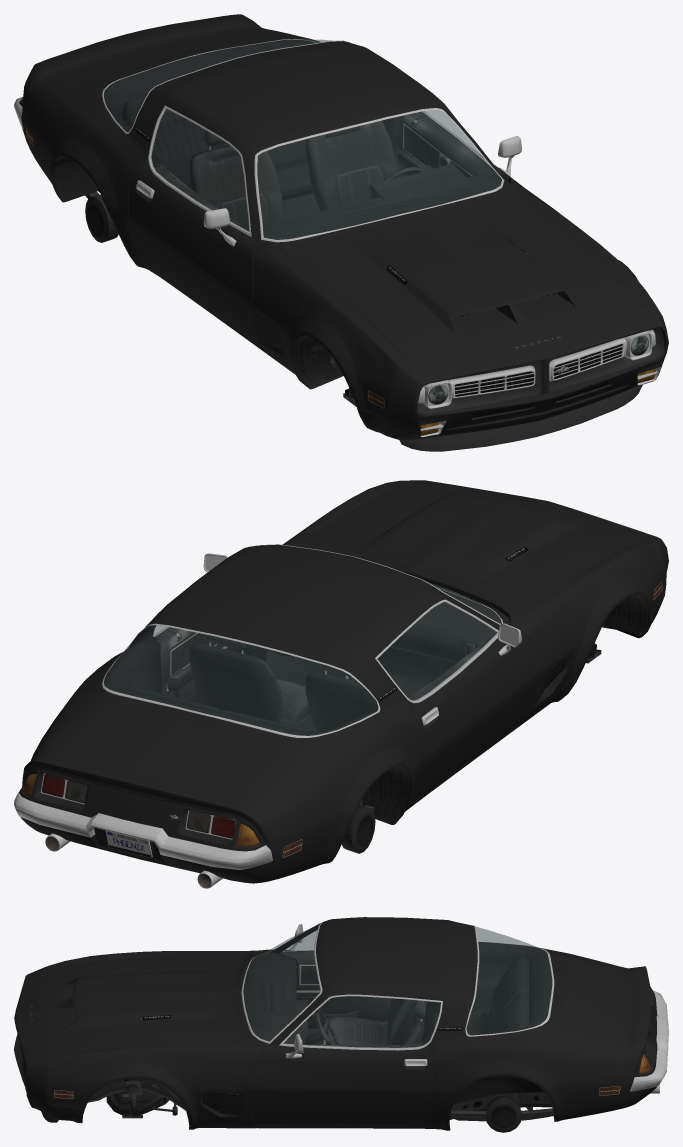
File: doge-body.glb
3 views of the same model, one above another, from view 1: azimuth 30°, elevation 25°; view 2: azimuth 150°, elevation 25°; view 3: azimuth 270°, elevation 25° (orthographic). The views are drawn at different scales.
Parts seen in each view (by area): view 1: Body, Hood, Windshield, Seats, Door_FR, Grill, Trunkdoor, Doorglass_FR, Bottom, Dashboard, Interior, Doorcard_FL (+6 smaller); view 2: Body, Hood, Glass_rear, Trunkdoor, Door_FR, Seats, Interior, Doorglass_FR, Bottom, Bumper_rear, Dashboard, Doorcard_FL (+8 smaller); view 3: Body, Hood, Door_FL, Glass_rear, Doorglass_FL, Seats, Trunkdoor, Windshield, Bottom, Interior, Dashboard, Suspension_front (+5 smaller).
Boxes of the visible parts, x1,y1,x2,y2 form: Body: (19, 14, 668, 440); Hood: (278, 186, 644, 364); Windshield: (257, 110, 501, 239); Seats: (121, 96, 397, 230); Door_FR: (129, 159, 262, 349); Grill: (417, 327, 664, 414); Trunkdoor: (47, 15, 282, 81); Doorglass_FR: (150, 109, 248, 231); Bottom: (25, 39, 660, 437); Dashboard: (263, 163, 501, 239); Interior: (103, 39, 500, 221); Doorcard_FL: (394, 111, 498, 177); Body: (19, 480, 668, 883); Hood: (295, 483, 644, 616); Glass_rear: (104, 625, 377, 735); Trunkdoor: (47, 702, 283, 814); Door_FR: (407, 632, 543, 802); Seats: (127, 634, 378, 731); Interior: (104, 625, 455, 735); Doorglass_FR: (378, 602, 497, 700); Bottom: (49, 544, 662, 871); Bumper_rear: (14, 792, 272, 869); Dashboard: (390, 589, 501, 663); Doorcard_FL: (153, 627, 266, 703); Body: (14, 917, 657, 1130); Hood: (42, 952, 253, 1057); Door_FL: (246, 1042, 436, 1124); Glass_rear: (466, 927, 551, 1034); Doorglass_FL: (283, 996, 440, 1047); Seats: (325, 958, 529, 1045); Trunkdoor: (558, 956, 651, 1040); Windshield: (243, 924, 319, 1041); Bottom: (54, 922, 620, 1128); Interior: (270, 923, 552, 1044); Dashboard: (243, 952, 308, 1044); Suspension_front: (106, 1081, 553, 1132).
Size of the model in its own units: 2.09 by 1.2 by 4.89.
Materials: 7 (6 with a texture image).
